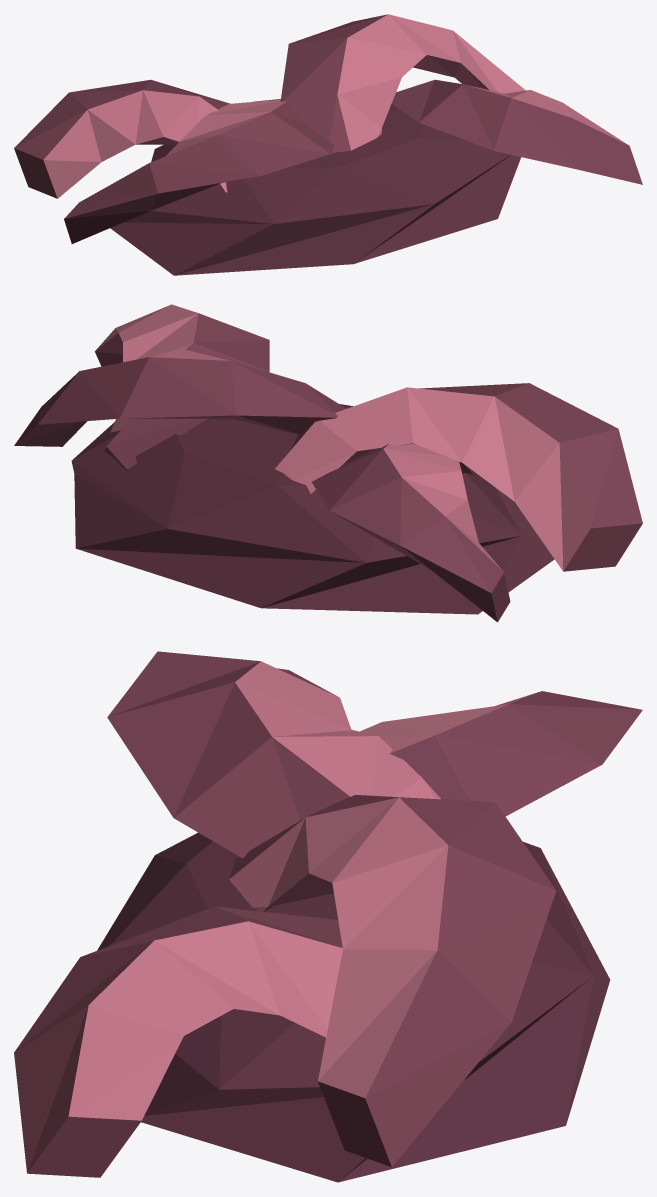
File: item_meat_twisted_b.obj
The picture shows the model from 3 angles, top to bottom: view 1: azimuth 30°, elevation 25°; view 2: azimuth 150°, elevation 25°; view 3: azimuth 270°, elevation 25°; orthographic projection. The views are drawn at different scales.
Bounding box in the file's own units: 0.901 × 0.2442 × 0.544.
